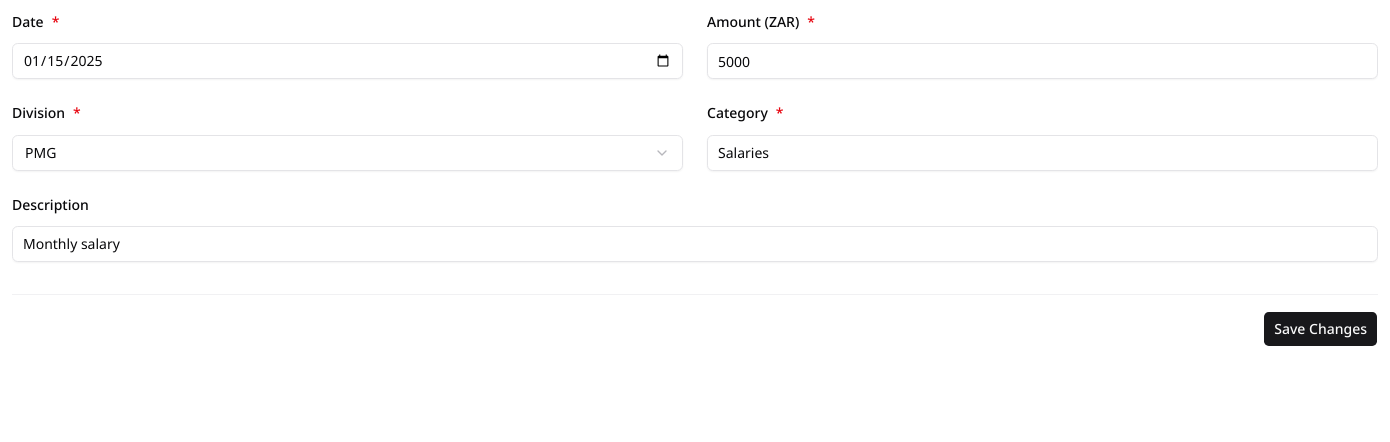
Test: ExpenseEditForm - inline error display › displays inline error when action returns { error } - Validates: Requirements 1.3
Click the button "Save Changes" at (1321, 329), box [1263,311,1378,347]
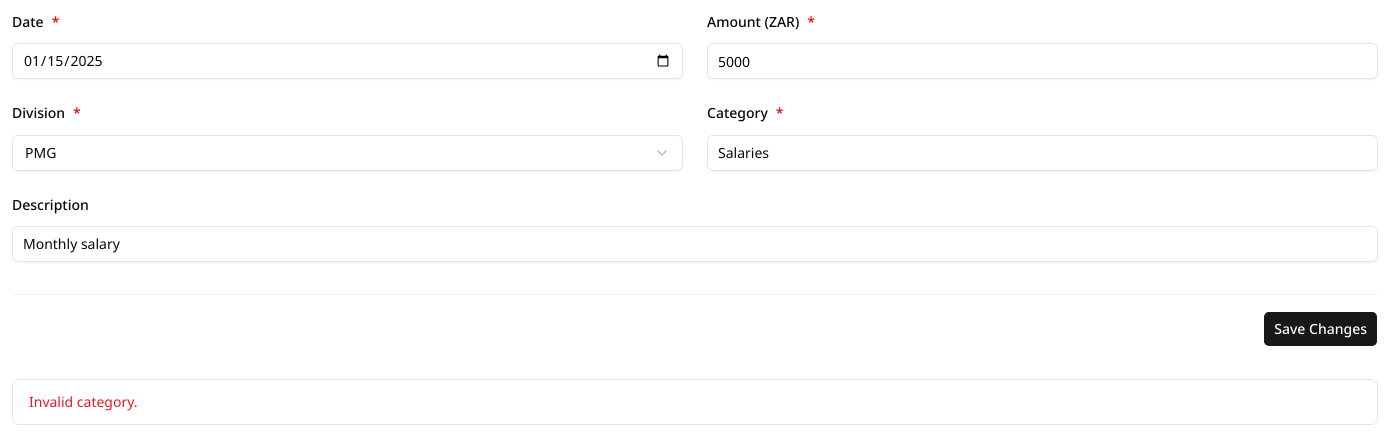
Now the text "Invalid category." is shown, box [29,392,138,411]
